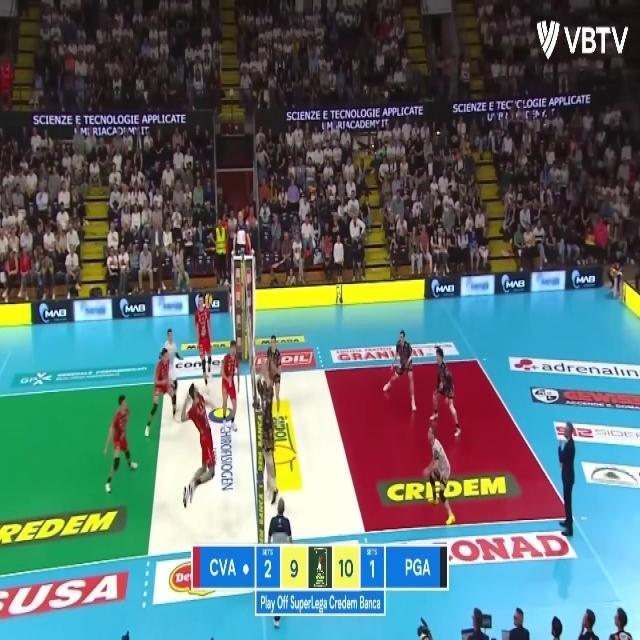volleyball court: (0, 355, 575, 569)
